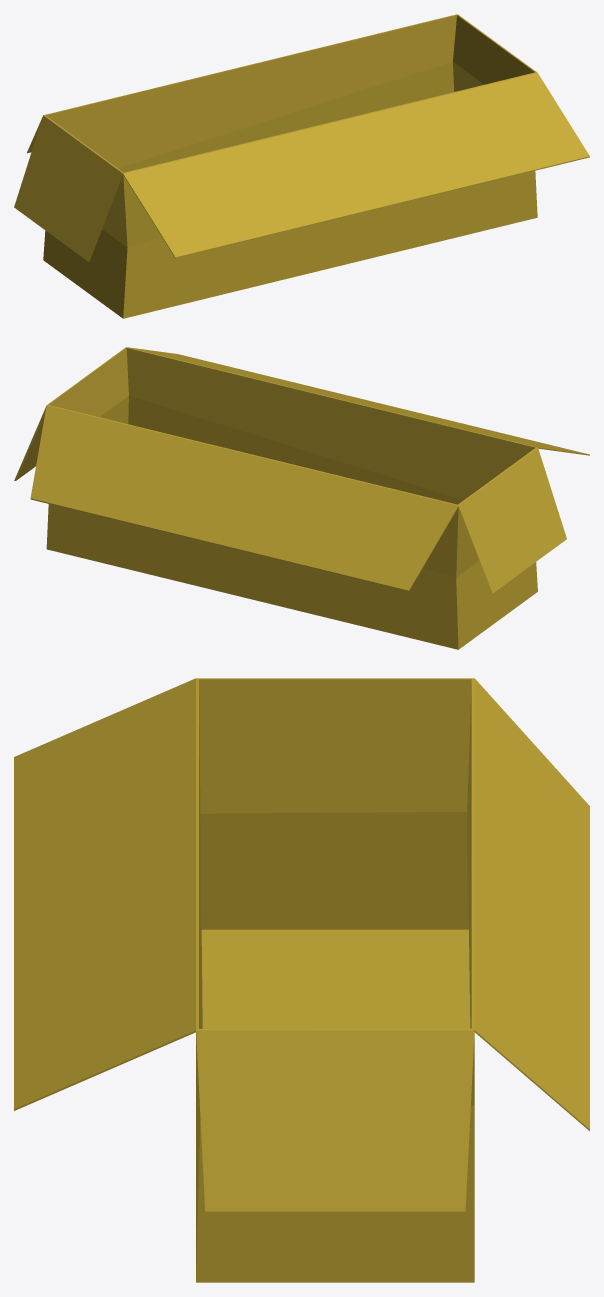
3 renders of one model, top to bottom at view 1: azimuth 30°, elevation 25°; view 2: azimuth 150°, elevation 25°; view 3: azimuth 270°, elevation 25°, orthographic. The views are drawn at different scales.
Parts seen in each view (by area): view 1: Cube; view 2: Cube; view 3: Cube.
Part boxes in pixels (bbox=[...]): Cube: bbox=[14, 14, 589, 318]; Cube: bbox=[14, 347, 589, 649]; Cube: bbox=[14, 678, 589, 1282].
Bounding box in the file's own units: 695 × 200 × 414.
